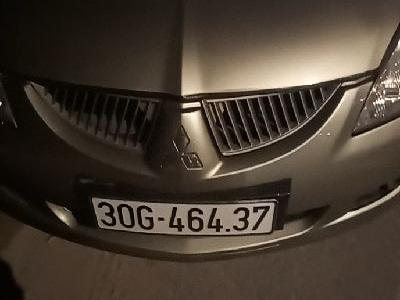car: (91, 195, 277, 236)
